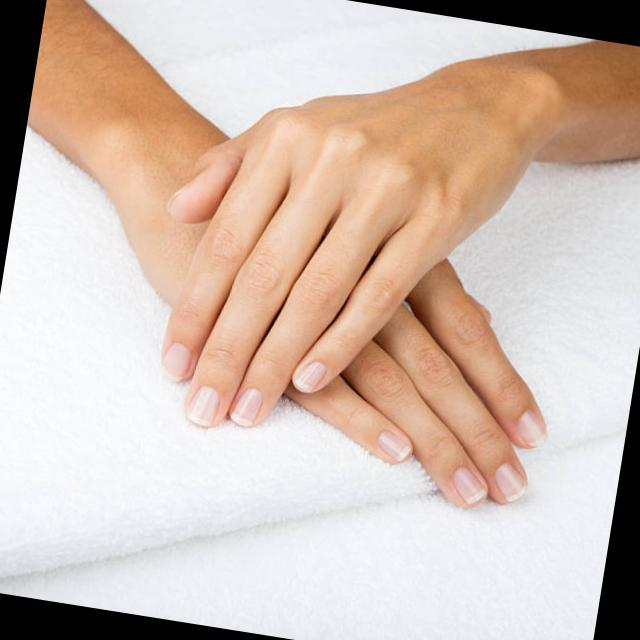Nail: (187, 386, 220, 427), (230, 388, 263, 427), (494, 463, 527, 502), (453, 467, 487, 504), (516, 410, 547, 447), (162, 343, 191, 382), (377, 431, 411, 461), (295, 361, 326, 393)
